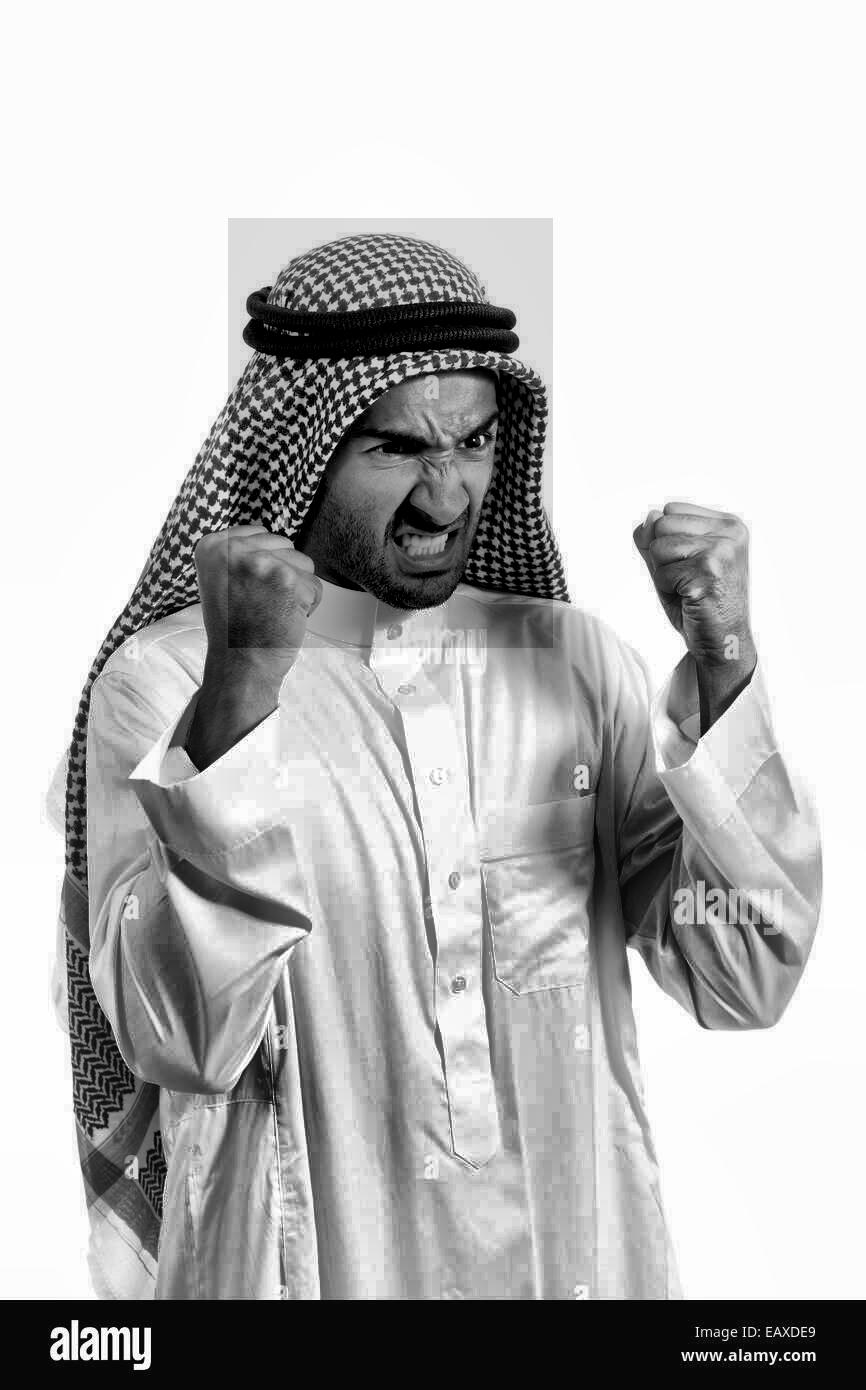angry: (228, 218, 553, 648)
